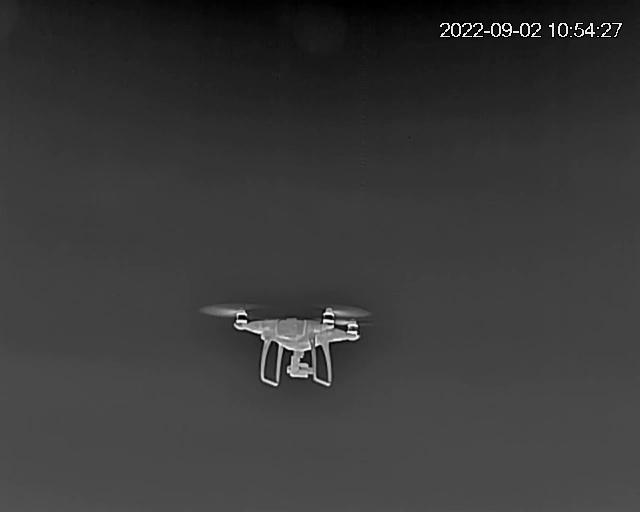DJI-Phantom: (202, 300, 374, 388)
